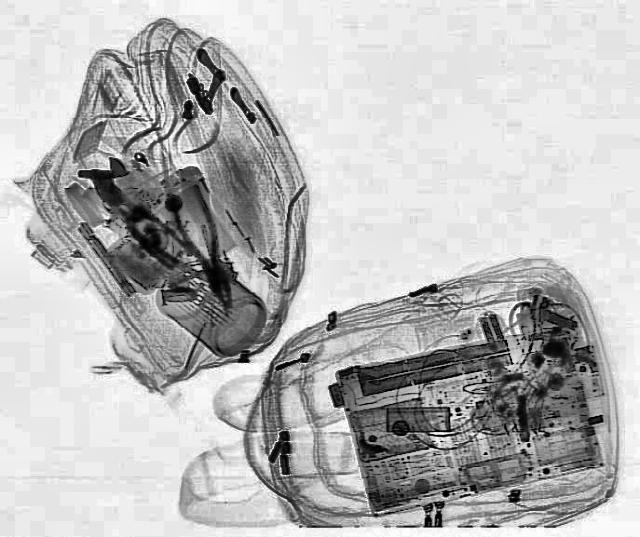Pliers: (160, 182, 246, 312)
